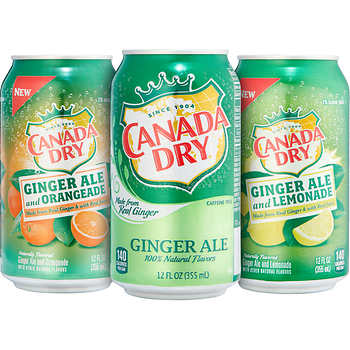Lata: (106, 41, 246, 306)
